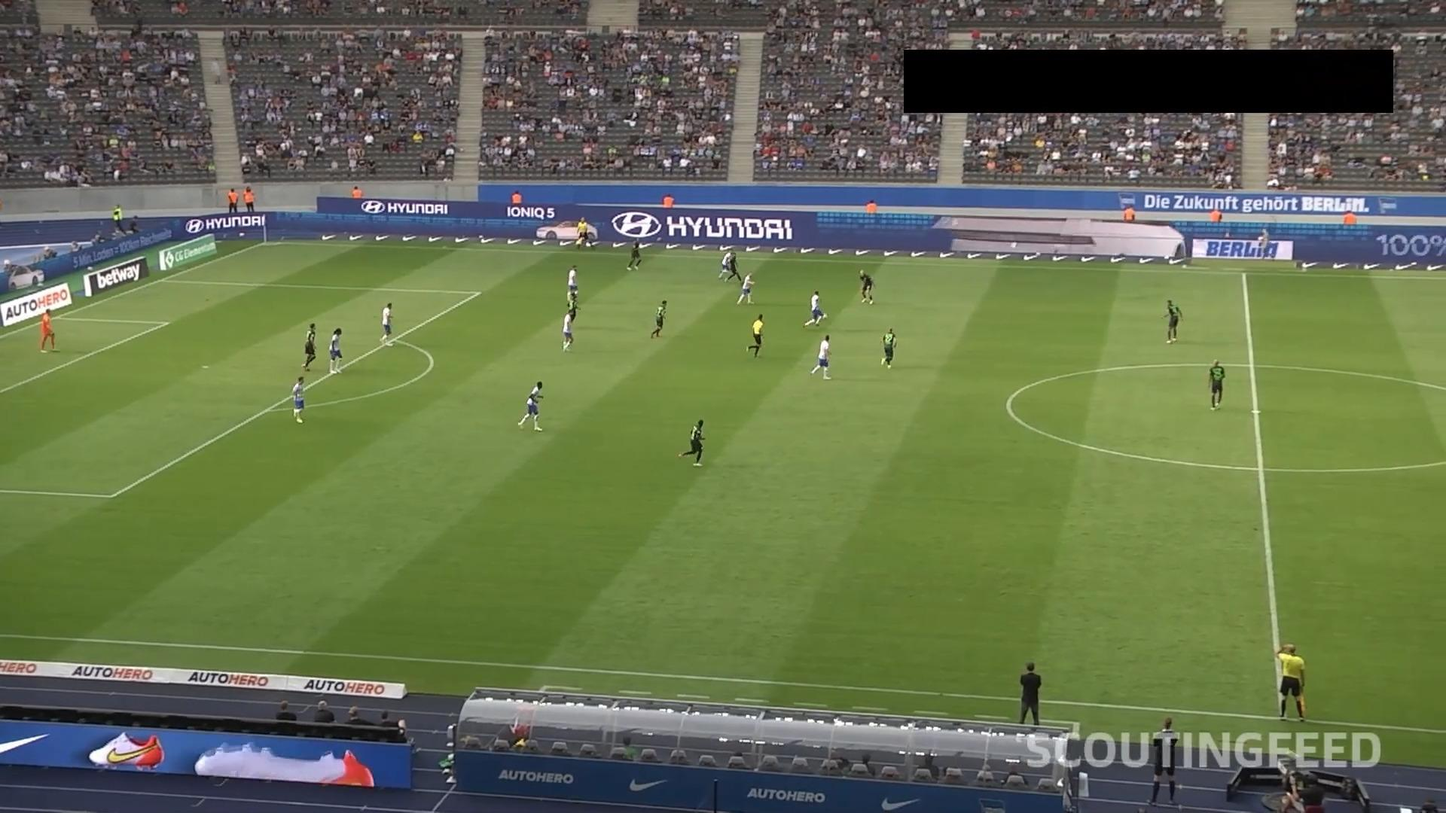ball: (822, 312, 828, 320)
goalkeeper: (37, 308, 59, 356)
player: (515, 379, 550, 433), (680, 416, 707, 469), (809, 331, 835, 382), (300, 321, 321, 376), (1207, 357, 1227, 412), (1163, 299, 1186, 345), (327, 326, 345, 378), (291, 376, 308, 430), (650, 296, 670, 341), (879, 327, 899, 372), (378, 300, 396, 350), (858, 266, 879, 306), (805, 289, 823, 332), (560, 306, 575, 354), (627, 234, 645, 274), (715, 245, 735, 279), (737, 271, 756, 305), (566, 288, 582, 326), (726, 251, 743, 286), (565, 263, 579, 303)
referee: (1273, 640, 1312, 725), (745, 311, 765, 360), (576, 216, 594, 251)
